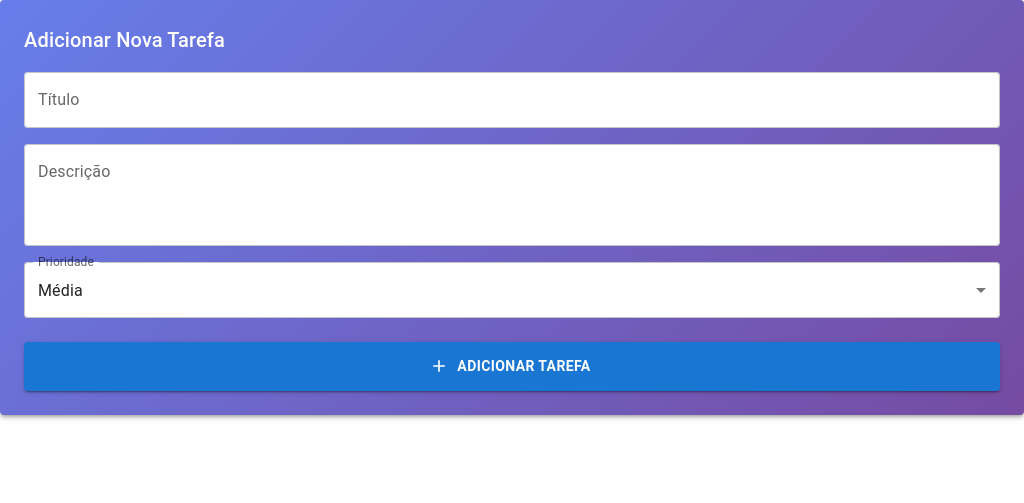
FormularioTarefa › Validação › deve mostrar erro quando título está vazio
Type "Descrição Teste" into the text box labelled "Descrição" at [512, 195], box [38,160,986,230]
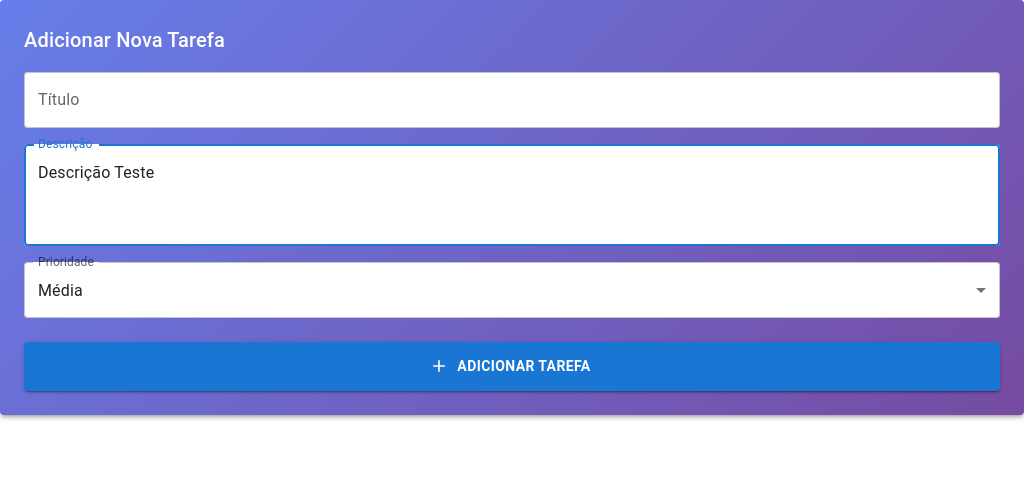
Click the button with test id "botao-adicionar" at [512, 366], box [24,342,1000,390]
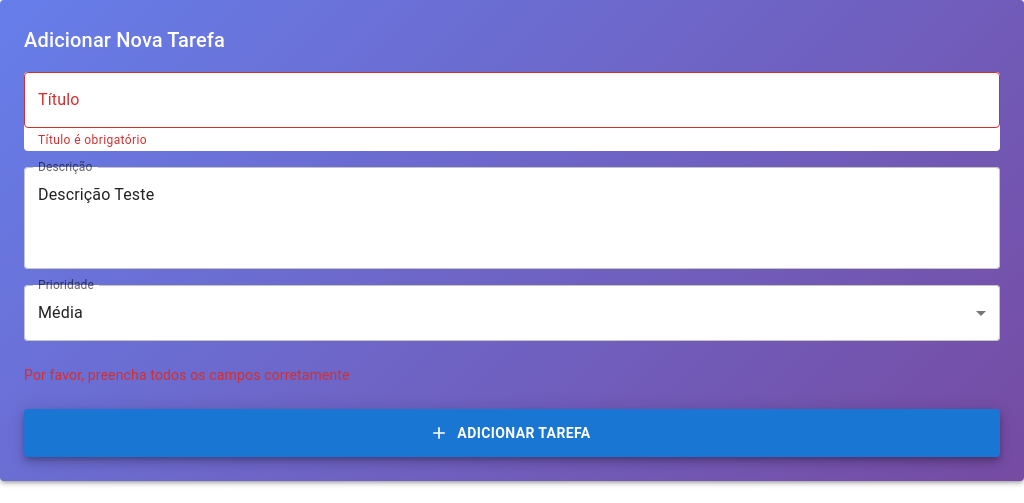
Expected: the text "Por favor, preencha todos os campos corretamente" is shown, [24,367,350,383]
